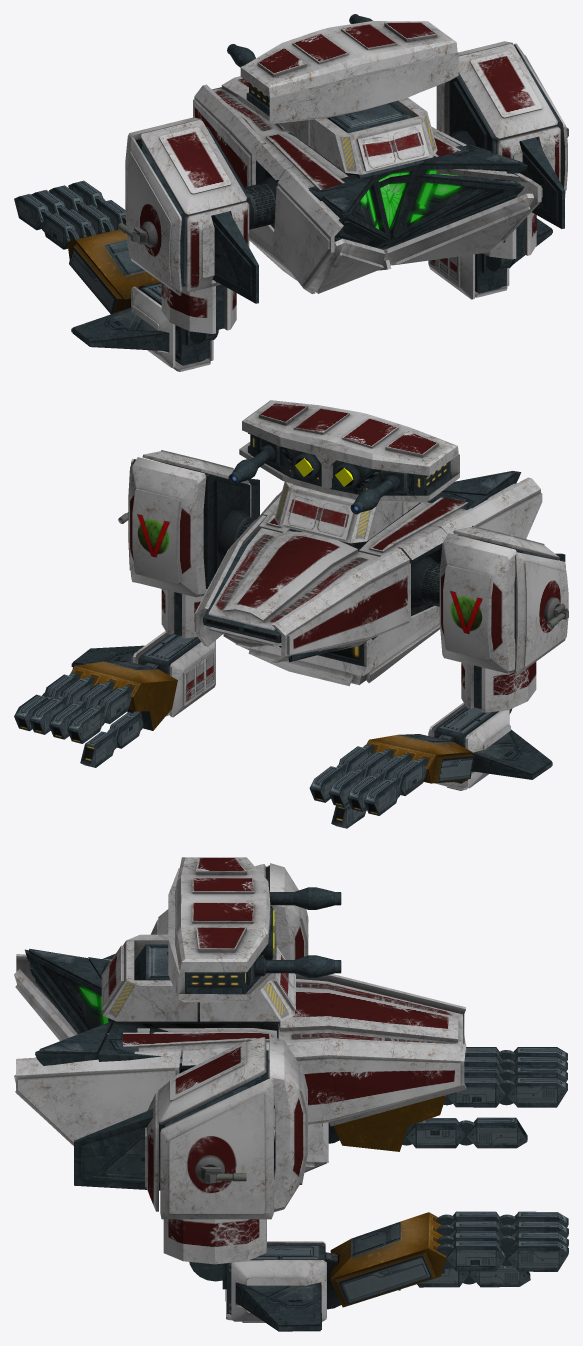
Rendered from spyborg.glb.
3 renders of one model, top to bottom at view 1: azimuth 30°, elevation 25°; view 2: azimuth 150°, elevation 25°; view 3: azimuth 270°, elevation 25°, orthographic. The views are drawn at different scales.
Parts seen in each view (by area): view 1: armor01, debris_01, armor02, armor18, armor19, armor04, armor12, armor20, R_shoulder, base, L_shoulder, armor15 (+31 smaller); view 2: armor01, armor16, armor17, armor05, armor08, turret03, armor20, armor07, armor03, L_arm, R_hand, R_shoulder (+33 smaller); view 3: armor21, armor09, armor01, armor13, armor05, debris_01, R_hand, R_shoulder, R_arm, armor17, armor04, turret03 (+30 smaller).
Part boxes in pixels (<box>): armor01: <box>240,21,457,97</box>; debris_01: <box>256,138,527,249</box>; armor02: <box>237,52,458,123</box>; armor18: <box>140,120,246,216</box>; armor19: <box>458,43,557,140</box>; armor04: <box>309,97,437,174</box>; armor12: <box>273,168,343,293</box>; armor20: <box>127,137,181,295</box>; R_shoulder: <box>449,54,564,271</box>; base: <box>257,132,524,248</box>; L_shoulder: <box>140,126,258,343</box>; armor15: <box>383,193,533,265</box>; armor01: <box>242,400,458,488</box>; armor16: <box>439,533,516,673</box>; armor17: <box>129,457,206,597</box>; armor05: <box>208,528,379,630</box>; armor08: <box>271,548,410,662</box>; turret03: <box>228,433,451,514</box>; armor20: <box>514,552,568,675</box>; armor07: <box>235,605,440,686</box>; armor03: <box>275,481,402,543</box>; L_arm: <box>434,706,552,783</box>; R_hand: <box>70,660,177,730</box>; R_shoulder: <box>173,473,259,635</box>; armor21: <box>160,1077,273,1219</box>; armor09: <box>266,1038,466,1129</box>; armor01: <box>175,857,270,972</box>; armor13: <box>16,1048,180,1145</box>; armor05: <box>278,979,462,1044</box>; debris_01: <box>25,948,195,1073</box>; R_hand: <box>330,1212,446,1307</box>; R_shoulder: <box>74,1050,275,1281</box>; R_arm: <box>222,1244,341,1331</box>; armor17: <box>269,1036,307,1212</box>; armor04: <box>101,934,197,1021</box>; turret03: <box>185,887,341,994</box>.
Bounding box in the file's own units: 108 × 66.95 × 98.61.
5 materials, 4 textured.
